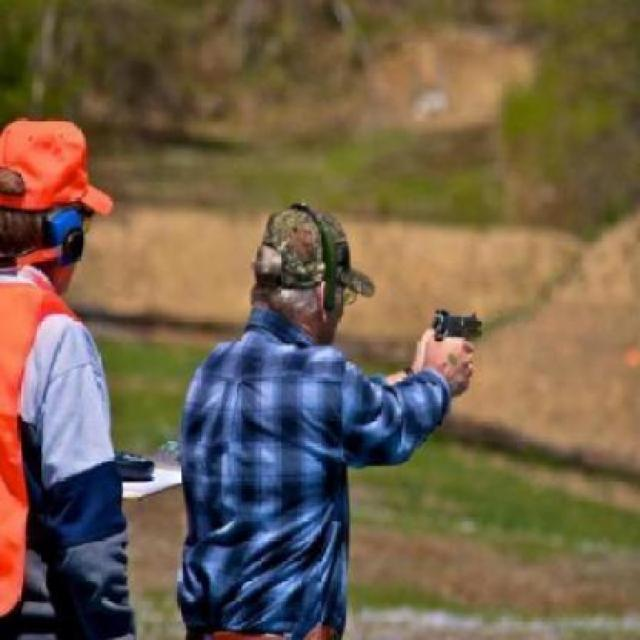gun: (426, 295, 488, 353)
